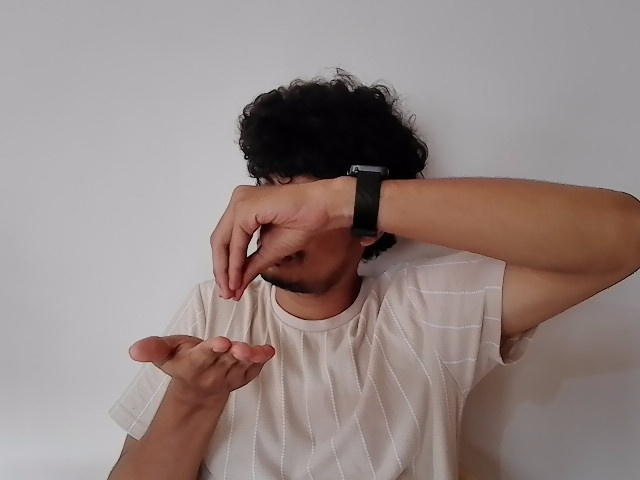learn: (129, 179, 313, 390)
